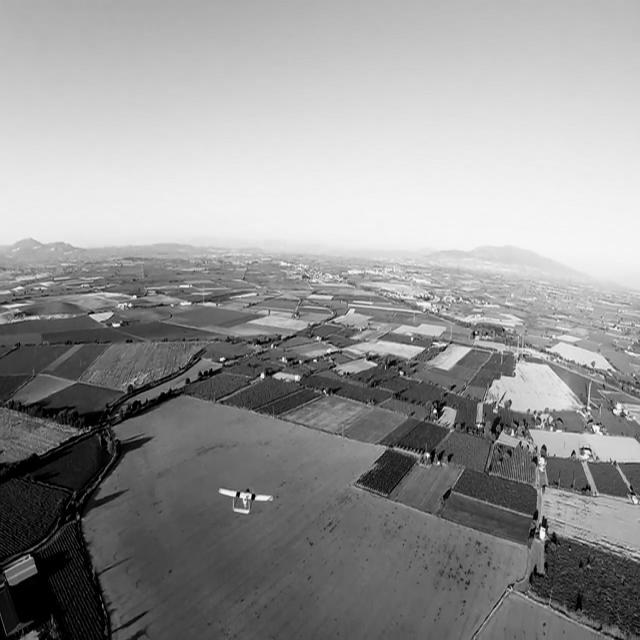iha: (218, 484, 276, 518)
